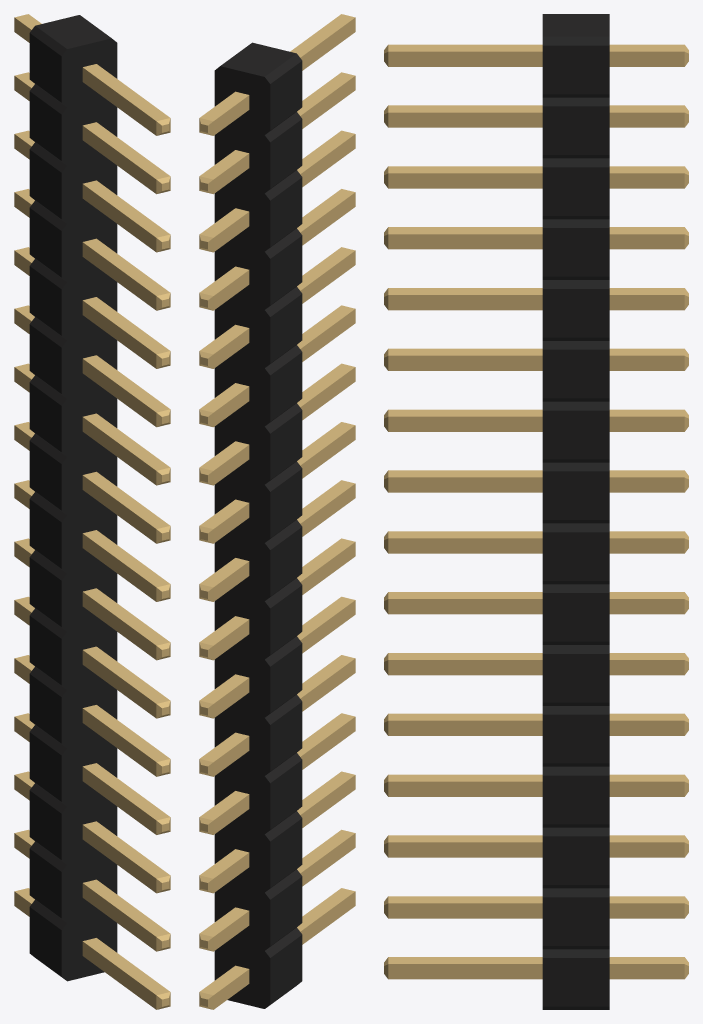
Rendered from header-1x16.glb.
3 renders of one model, left to right at view 1: azimuth 30°, elevation 25°; view 2: azimuth 150°, elevation 25°; view 3: azimuth 270°, elevation 25°, orthographic. The views are drawn at different scales.
Visible parts, largest first — view 1: IC-BODY-EPOXY-04, PIN-02; view 2: IC-BODY-EPOXY-04, PIN-02; view 3: PIN-02, IC-BODY-EPOXY-04.
Part boxes in pixels (bbox=[...]): IC-BODY-EPOXY-04: bbox=[29, 15, 117, 981]; PIN-02: bbox=[14, 14, 170, 1009]; IC-BODY-EPOXY-04: bbox=[214, 42, 302, 1008]; PIN-02: bbox=[199, 14, 355, 1009]; PIN-02: bbox=[384, 44, 688, 979]; IC-BODY-EPOXY-04: bbox=[542, 14, 609, 1009].
Bounding box in the file's own units: 2.54 × 40.64 × 11.54.
